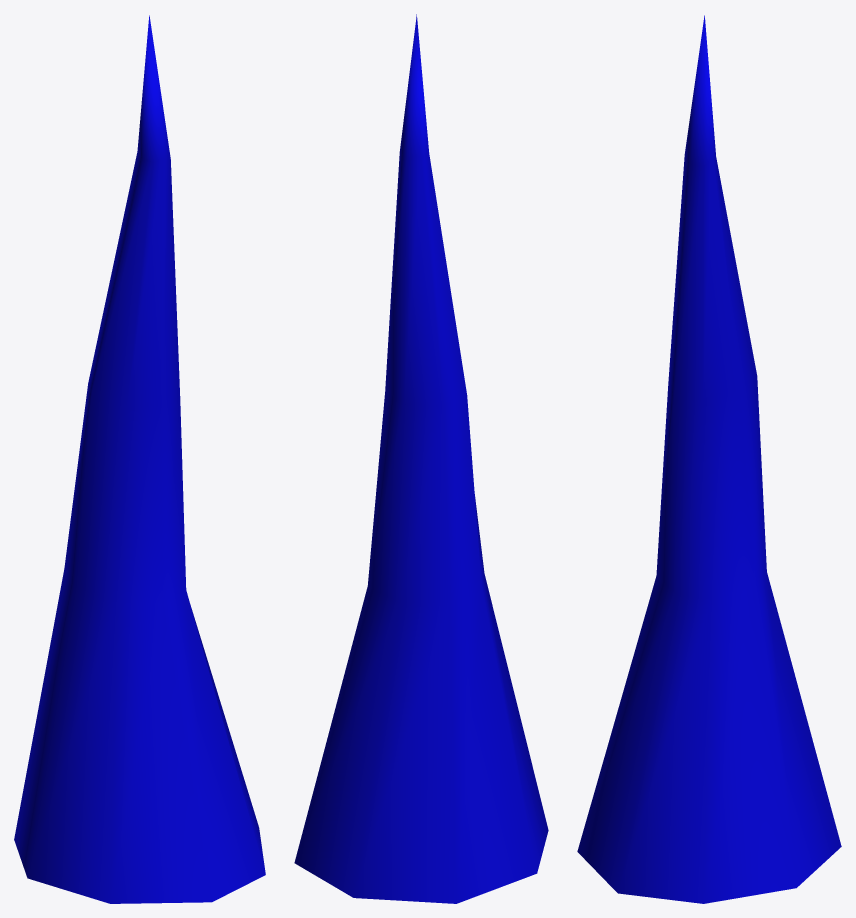
File: Spike03_mesh.fbx
3 renders of one model, left to right at view 1: azimuth 30°, elevation 25°; view 2: azimuth 150°, elevation 25°; view 3: azimuth 270°, elevation 25°, orthographic.
Visible parts, largest first — view 1: Spike03_mesh; view 2: Spike03_mesh; view 3: Spike03_mesh.
Part boxes in pixels (<box>): Spike03_mesh: <box>14,15,265,903</box>; Spike03_mesh: <box>294,14,548,903</box>; Spike03_mesh: <box>577,15,841,903</box>.
Size of the model in its own units: 0.5528 by 1.94 by 0.5504.
